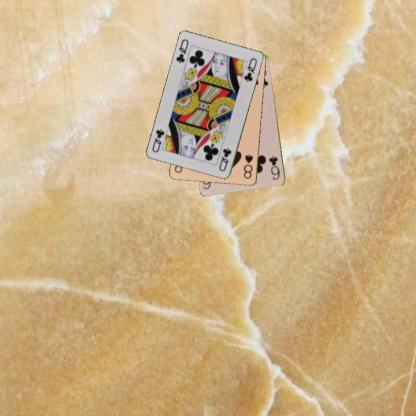6c: (266, 153, 282, 182)
8s: (241, 152, 254, 180)
Qc: (173, 36, 190, 65), (217, 146, 233, 172)
